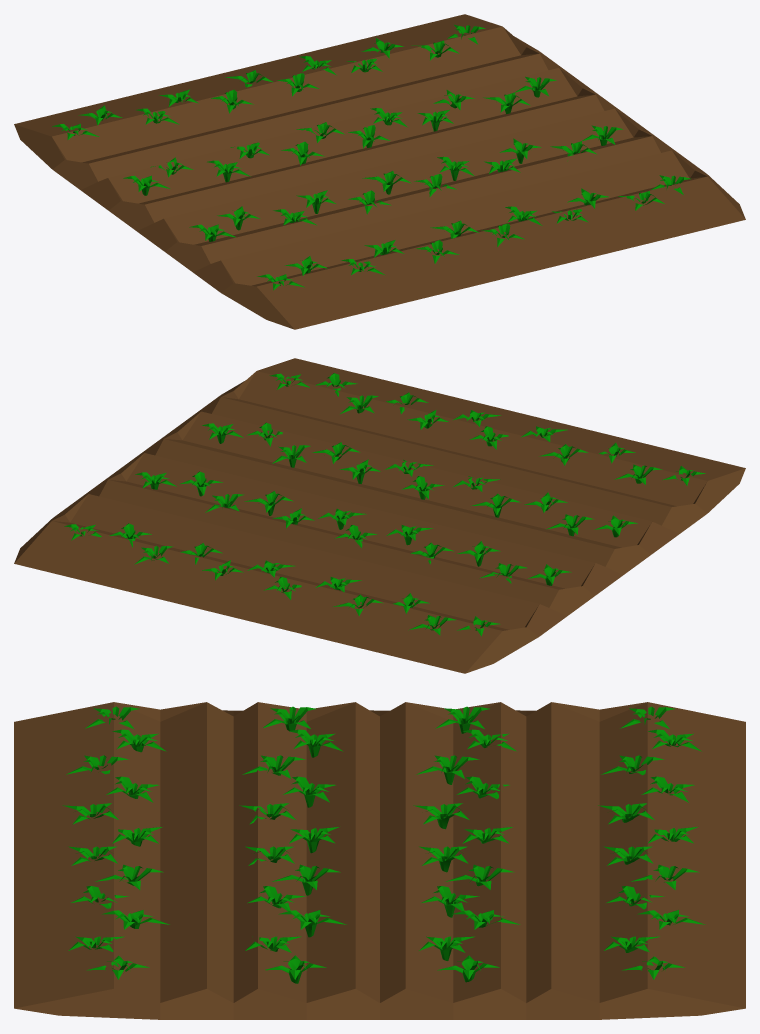
File: wheat-stage1-w-Dirt.glb
3 views of the same model, one above another, from view 1: azimuth 30°, elevation 25°; view 2: azimuth 150°, elevation 25°; view 3: azimuth 270°, elevation 25° (orthographic). The views are drawn at different scales.
Parts seen in each view (by area): view 1: Soil.005, Wheat_F1; view 2: Soil.005, Wheat_F1; view 3: Soil.005, Wheat_F1.
Boxes of the visible parts, x1,y1,x2,y2 form: Soil.005: (14, 14, 745, 329); Wheat_F1: (52, 24, 690, 290); Soil.005: (14, 358, 745, 673); Wheat_F1: (64, 373, 705, 636); Soil.005: (14, 702, 745, 1019); Wheat_F1: (62, 706, 705, 983).
Bounding box in the file's own units: 2.5 × 0.0965 × 2.5.
2 materials, 1 textured.
